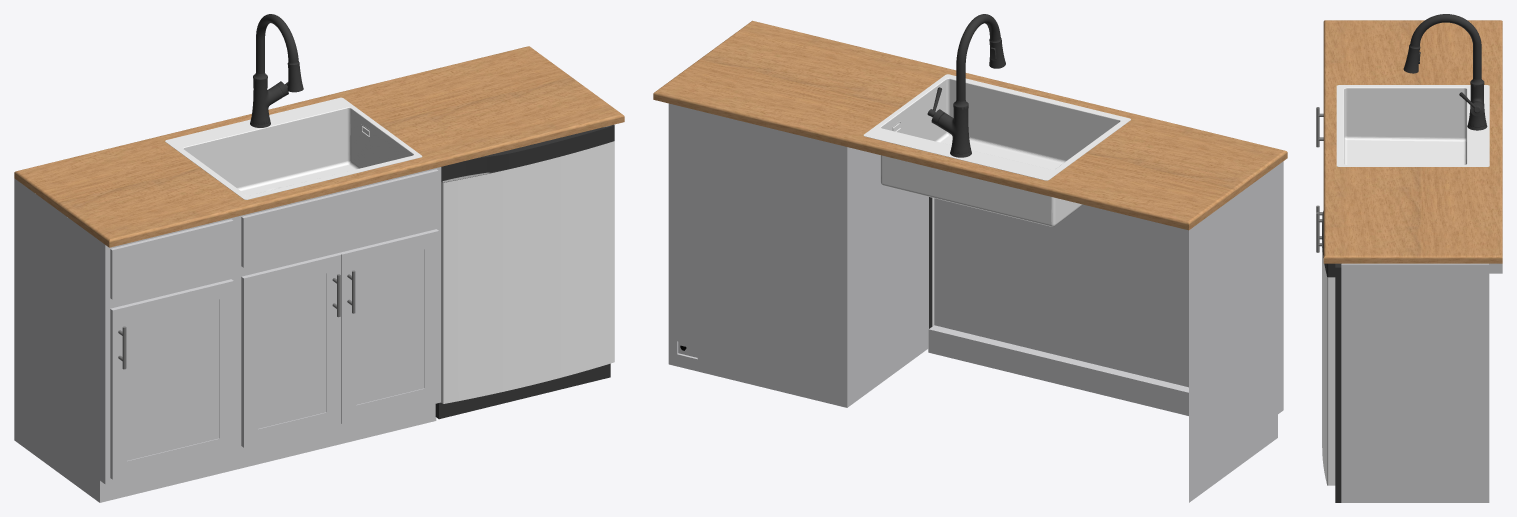
File: kitchen.glb
3 views of the same model, side by side, from view 1: azimuth 30°, elevation 25°; view 2: azimuth 150°, elevation 25°; view 3: azimuth 270°, elevation 25° (orthographic). The views are drawn at different scales.
Visible parts, largest first — view 1: kitchenette_white, kitchenette_metal_2, kitchenette_wood, Layer0, kitchenette_mixer_2, kitchenette_black_2; view 2: kitchenette_white, Layer0, kitchenette_wood, kitchenette_metal_2, kitchenette_mixer_2; view 3: Layer0, kitchenette_wood, kitchenette_metal_2, kitchenette_mixer_2, kitchenette_black_2.
Part boxes in pixels (<box>): kitchenette_white: <box>14,167,441,502</box>; kitchenette_metal_2: <box>165,97,614,403</box>; kitchenette_wood: <box>14,46,624,247</box>; Layer0: <box>435,124,614,419</box>; kitchenette_mixer_2: <box>250,14,303,127</box>; kitchenette_black_2: <box>118,270,355,369</box>; kitchenette_white: <box>928,161,1283,502</box>; Layer0: <box>668,103,932,407</box>; kitchenette_wood: <box>653,20,1287,230</box>; kitchenette_metal_2: <box>863,74,1130,326</box>; kitchenette_mixer_2: <box>927,14,1005,157</box>; Layer0: <box>1322,211,1489,502</box>; kitchenette_wood: <box>1323,20,1502,263</box>; kitchenette_metal_2: <box>1322,85,1489,485</box>; kitchenette_mixer_2: <box>1403,14,1487,130</box>; kitchenette_black_2: <box>1316,107,1323,252</box>.
Bounding box in the file's own units: 1.83 × 1.32 × 0.6083.
Materials: 11 (2 with a texture image).
